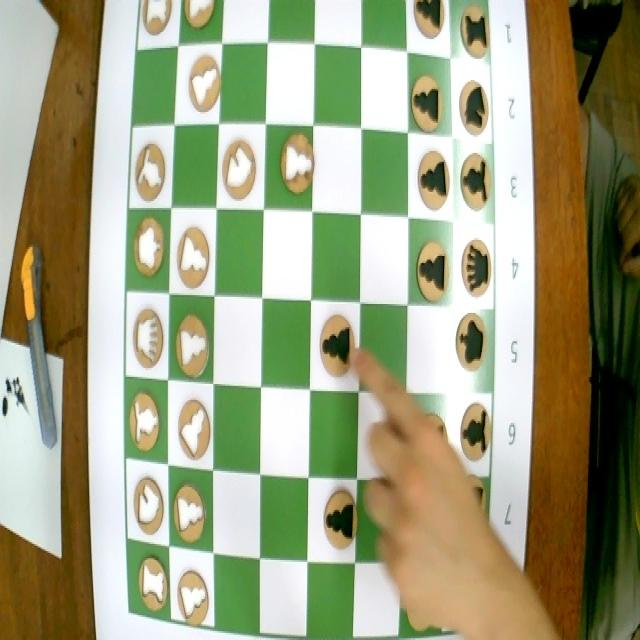chess-pieces: (312, 304, 358, 385), (127, 538, 171, 622), (314, 480, 358, 563), (171, 214, 214, 296), (408, 222, 451, 304), (127, 299, 170, 377), (172, 390, 214, 468), (410, 141, 452, 219), (218, 136, 262, 208), (125, 466, 167, 541), (280, 128, 320, 206), (408, 58, 448, 136), (174, 559, 216, 630), (170, 471, 208, 549), (457, 144, 497, 218), (174, 304, 214, 377), (126, 384, 166, 457), (129, 212, 168, 282), (182, 44, 220, 114), (132, 137, 172, 202), (456, 75, 494, 142), (457, 231, 491, 304), (452, 309, 489, 375), (457, 402, 492, 471), (134, 0, 177, 48), (458, 6, 491, 66), (408, 0, 447, 45), (182, 0, 220, 40)
